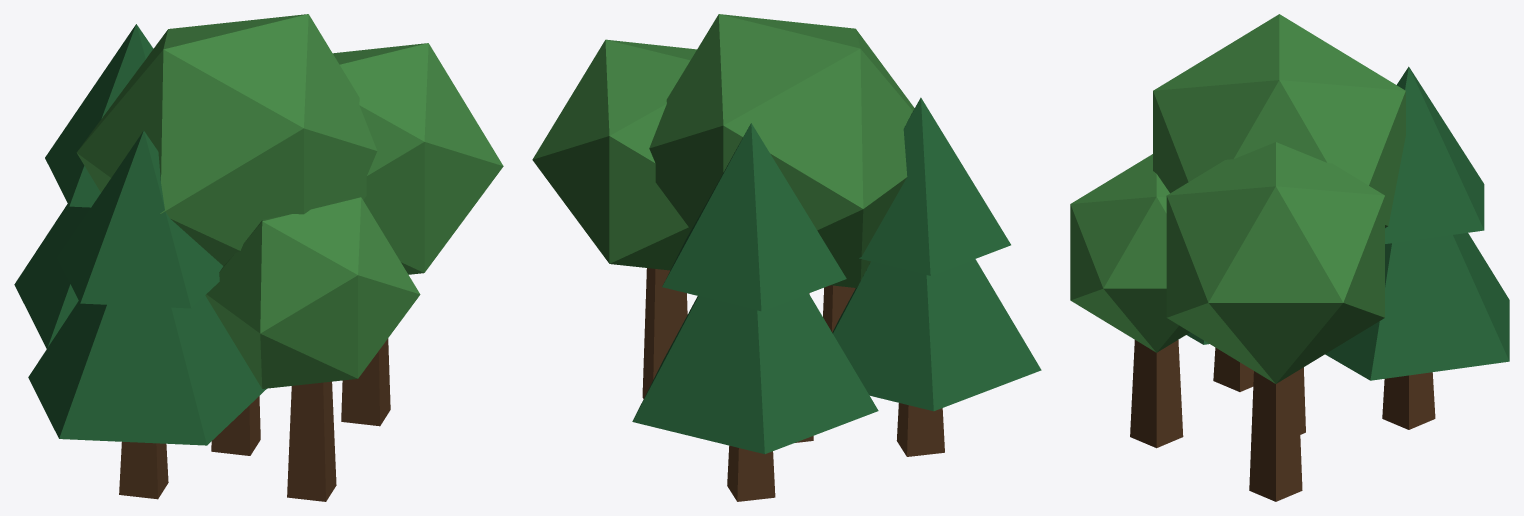
Rendered from forest-middle.glb.
The picture shows the model from 3 angles, left to right: view 1: azimuth 30°, elevation 25°; view 2: azimuth 150°, elevation 25°; view 3: azimuth 270°, elevation 25°; orthographic projection. The views are drawn at different scales.
Visible parts, largest first — view 1: forest-middle; view 2: forest-middle; view 3: forest-middle.
Boxes of the visible parts, x1,y1,x2,y2 form: forest-middle: (14, 14, 503, 501); forest-middle: (532, 14, 1041, 501); forest-middle: (1070, 14, 1509, 501).
Size of the model in its own units: 0.235 by 0.2078 by 0.2145.
